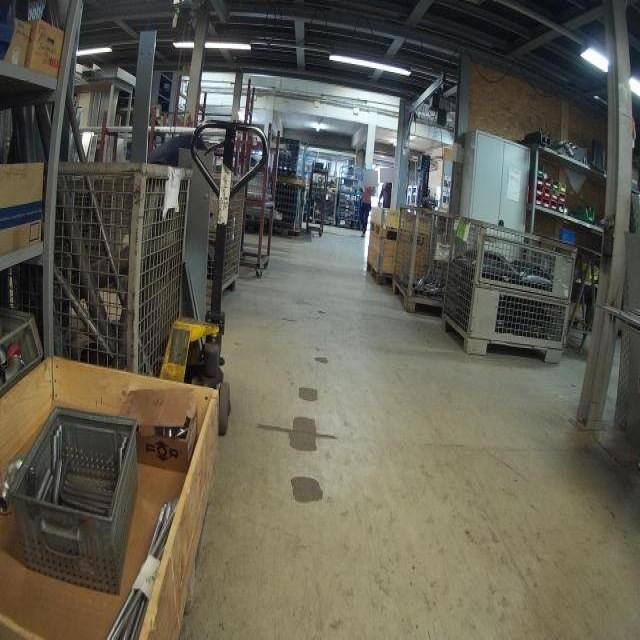pallet: (369, 219, 432, 248), (366, 261, 398, 288)
pallet_truck: (123, 113, 276, 433)
stillage: (41, 159, 189, 380), (442, 213, 579, 366), (390, 199, 455, 311), (199, 177, 249, 315)
